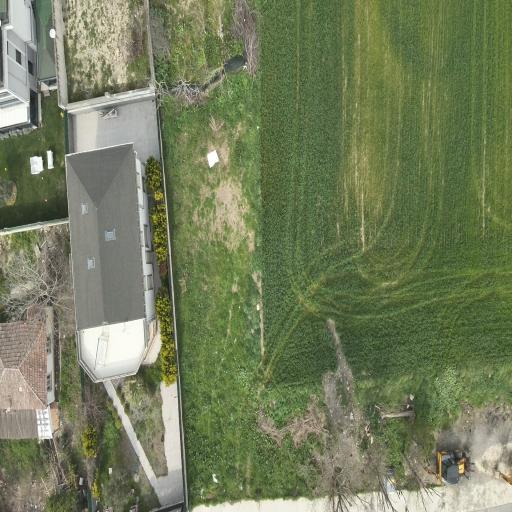car: (430, 450, 471, 484)
